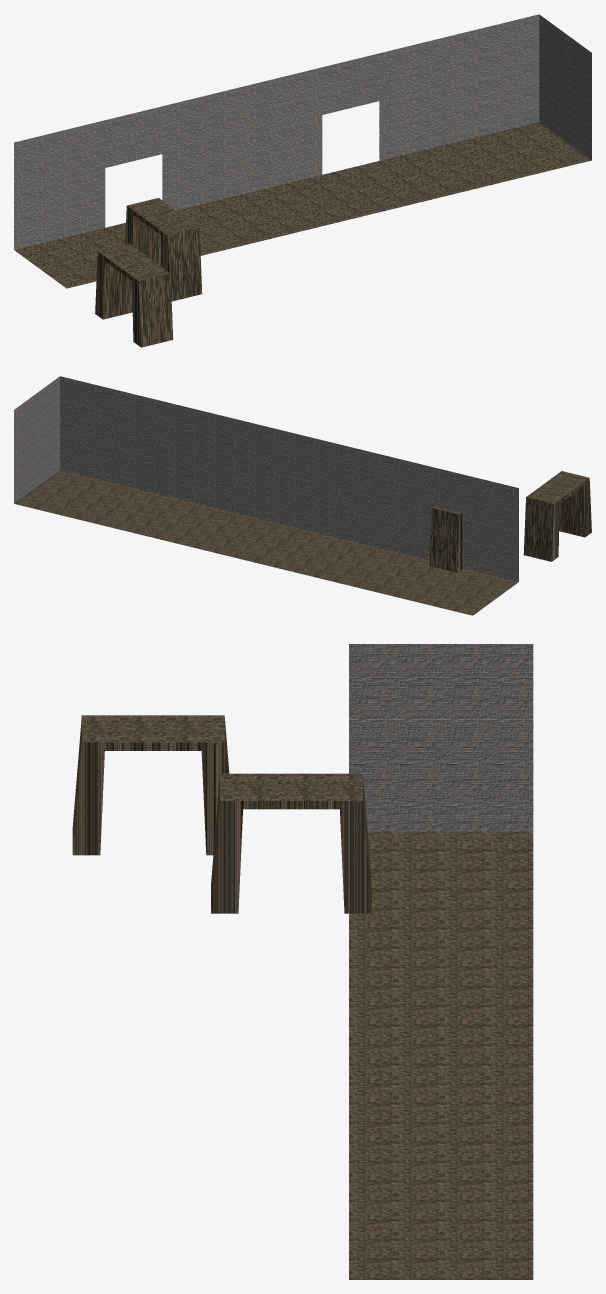
The model's file is room.gltf.
The picture shows the model from 3 angles, top to bottom: view 1: azimuth 30°, elevation 25°; view 2: azimuth 150°, elevation 25°; view 3: azimuth 270°, elevation 25°; orthographic projection. The views are drawn at different scales.
Parts seen in each view (by area): view 1: parent, r1r2_impl, r2r1_impl; view 2: parent, r1r2_impl, r2r1_impl; view 3: parent, r2r1_impl, r1r2_impl.
Boxes of the visible parts, box(x1,y1,x2,y2) form: parent: box(14, 14, 591, 288); r1r2_impl: box(95, 243, 173, 347); r2r1_impl: box(125, 198, 202, 301); parent: box(14, 376, 518, 615); r1r2_impl: box(523, 471, 591, 561); r2r1_impl: box(429, 505, 462, 572); parent: box(349, 644, 533, 1279); r2r1_impl: box(211, 773, 371, 913); r1r2_impl: box(72, 715, 229, 855).
Bounding box in the file's own units: 23.2 × 4.5 × 10.
